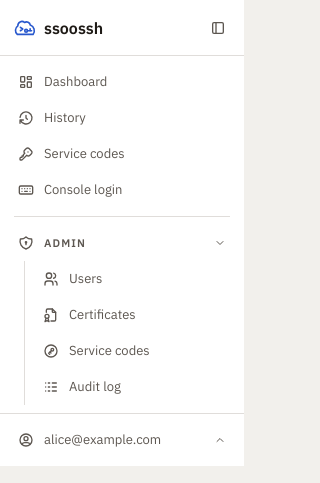
Test: app rail › should hide the admin sections once the group is shut
This screenshot has width=320, height=483.
Step 1. Click the button with test id "rail-admin-group" → coordinates (122, 243), box [8,225,236,261]
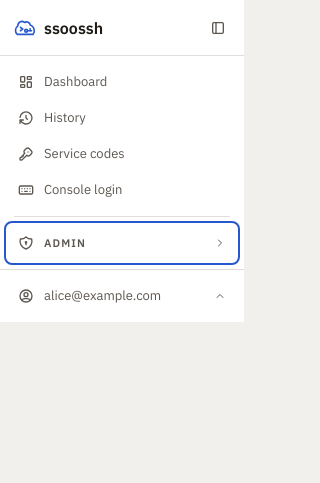
Expected: the link "Audit log" is gone
